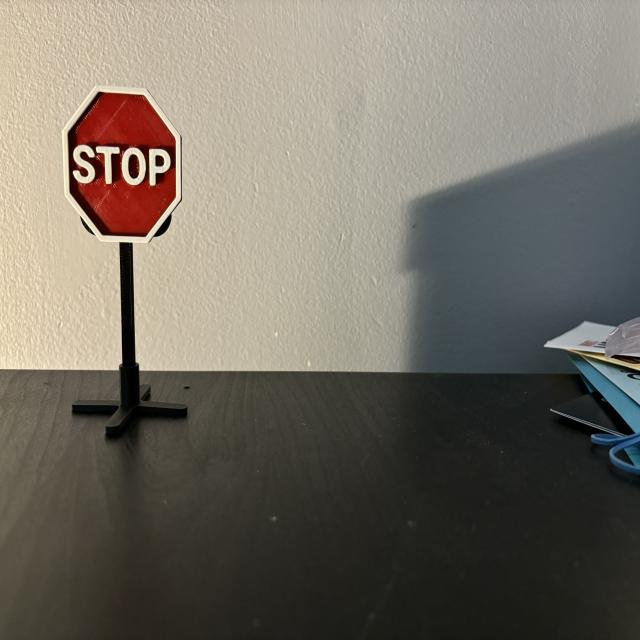sign_stop: (63, 87, 183, 244)
